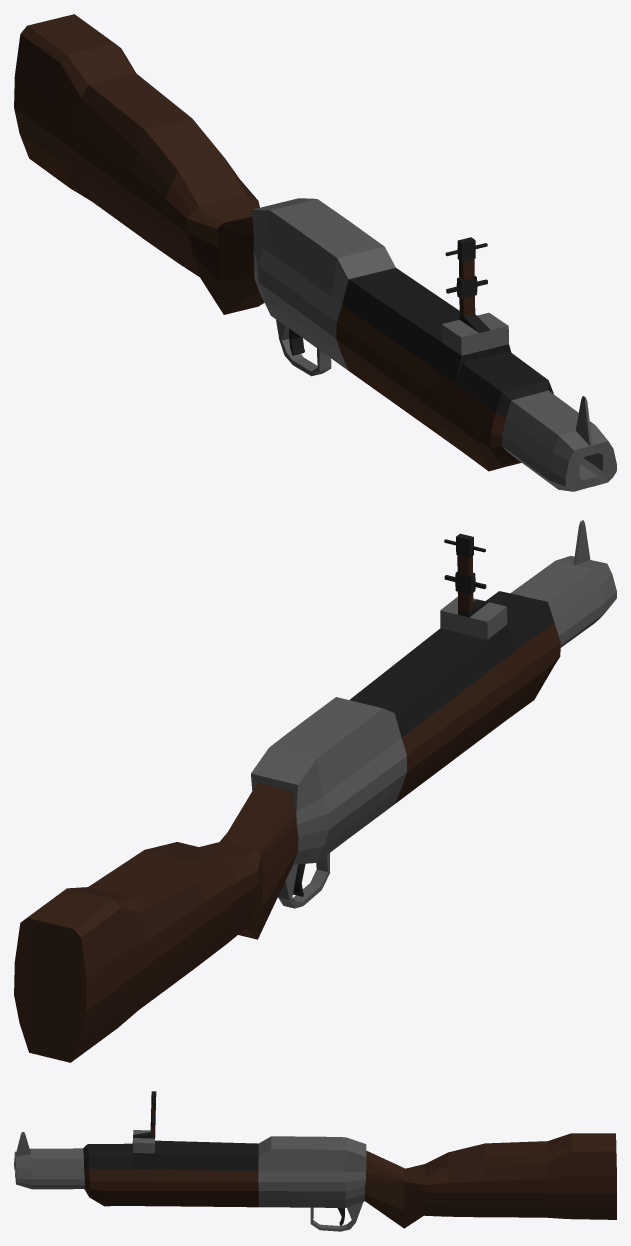
File: glauncher.fbx
3 views of the same model, one above another, from view 1: azimuth 30°, elevation 25°; view 2: azimuth 150°, elevation 25°; view 3: azimuth 270°, elevation 25° (orthographic). The views are drawn at different scales.
Parts seen in each view (by area): view 1: glauncher; view 2: glauncher; view 3: glauncher.
Part boxes in pixels (bbox=[...]): glauncher: bbox=[14, 14, 616, 491]; glauncher: bbox=[14, 520, 616, 1062]; glauncher: bbox=[14, 1091, 616, 1231].
Bounding box in the file's own units: 18.19 × 59.5 × 237.
